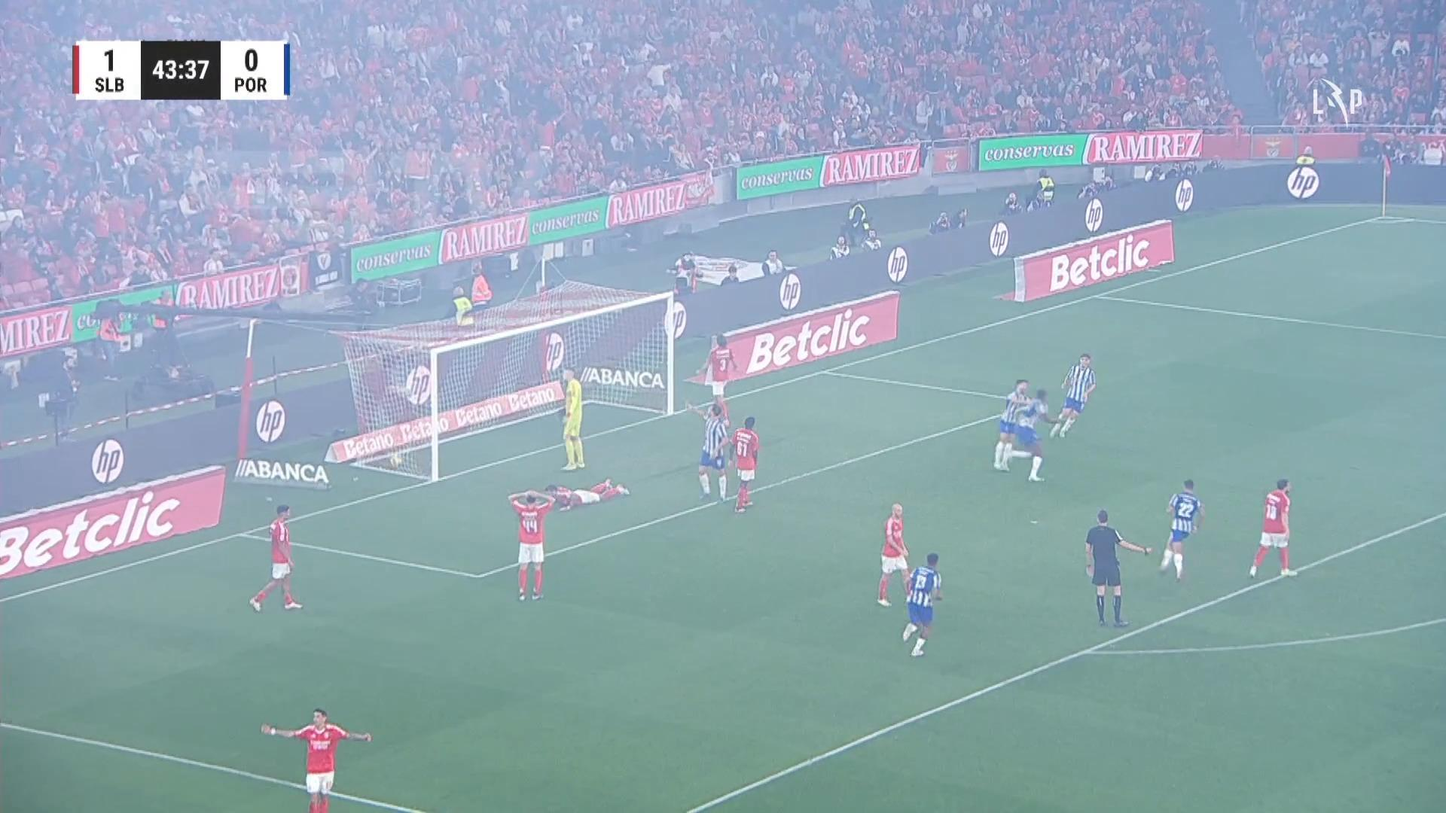goalkeeper: (558, 367, 585, 470)
player: (260, 707, 372, 811), (249, 503, 304, 612), (507, 488, 556, 601), (1006, 387, 1058, 482), (1248, 477, 1297, 577), (685, 398, 731, 502), (1158, 478, 1203, 580), (901, 551, 943, 656), (1048, 352, 1097, 438), (876, 501, 911, 607), (992, 379, 1031, 471), (700, 333, 737, 425), (544, 477, 630, 512), (731, 415, 759, 512)
referee: (1084, 508, 1152, 627)
